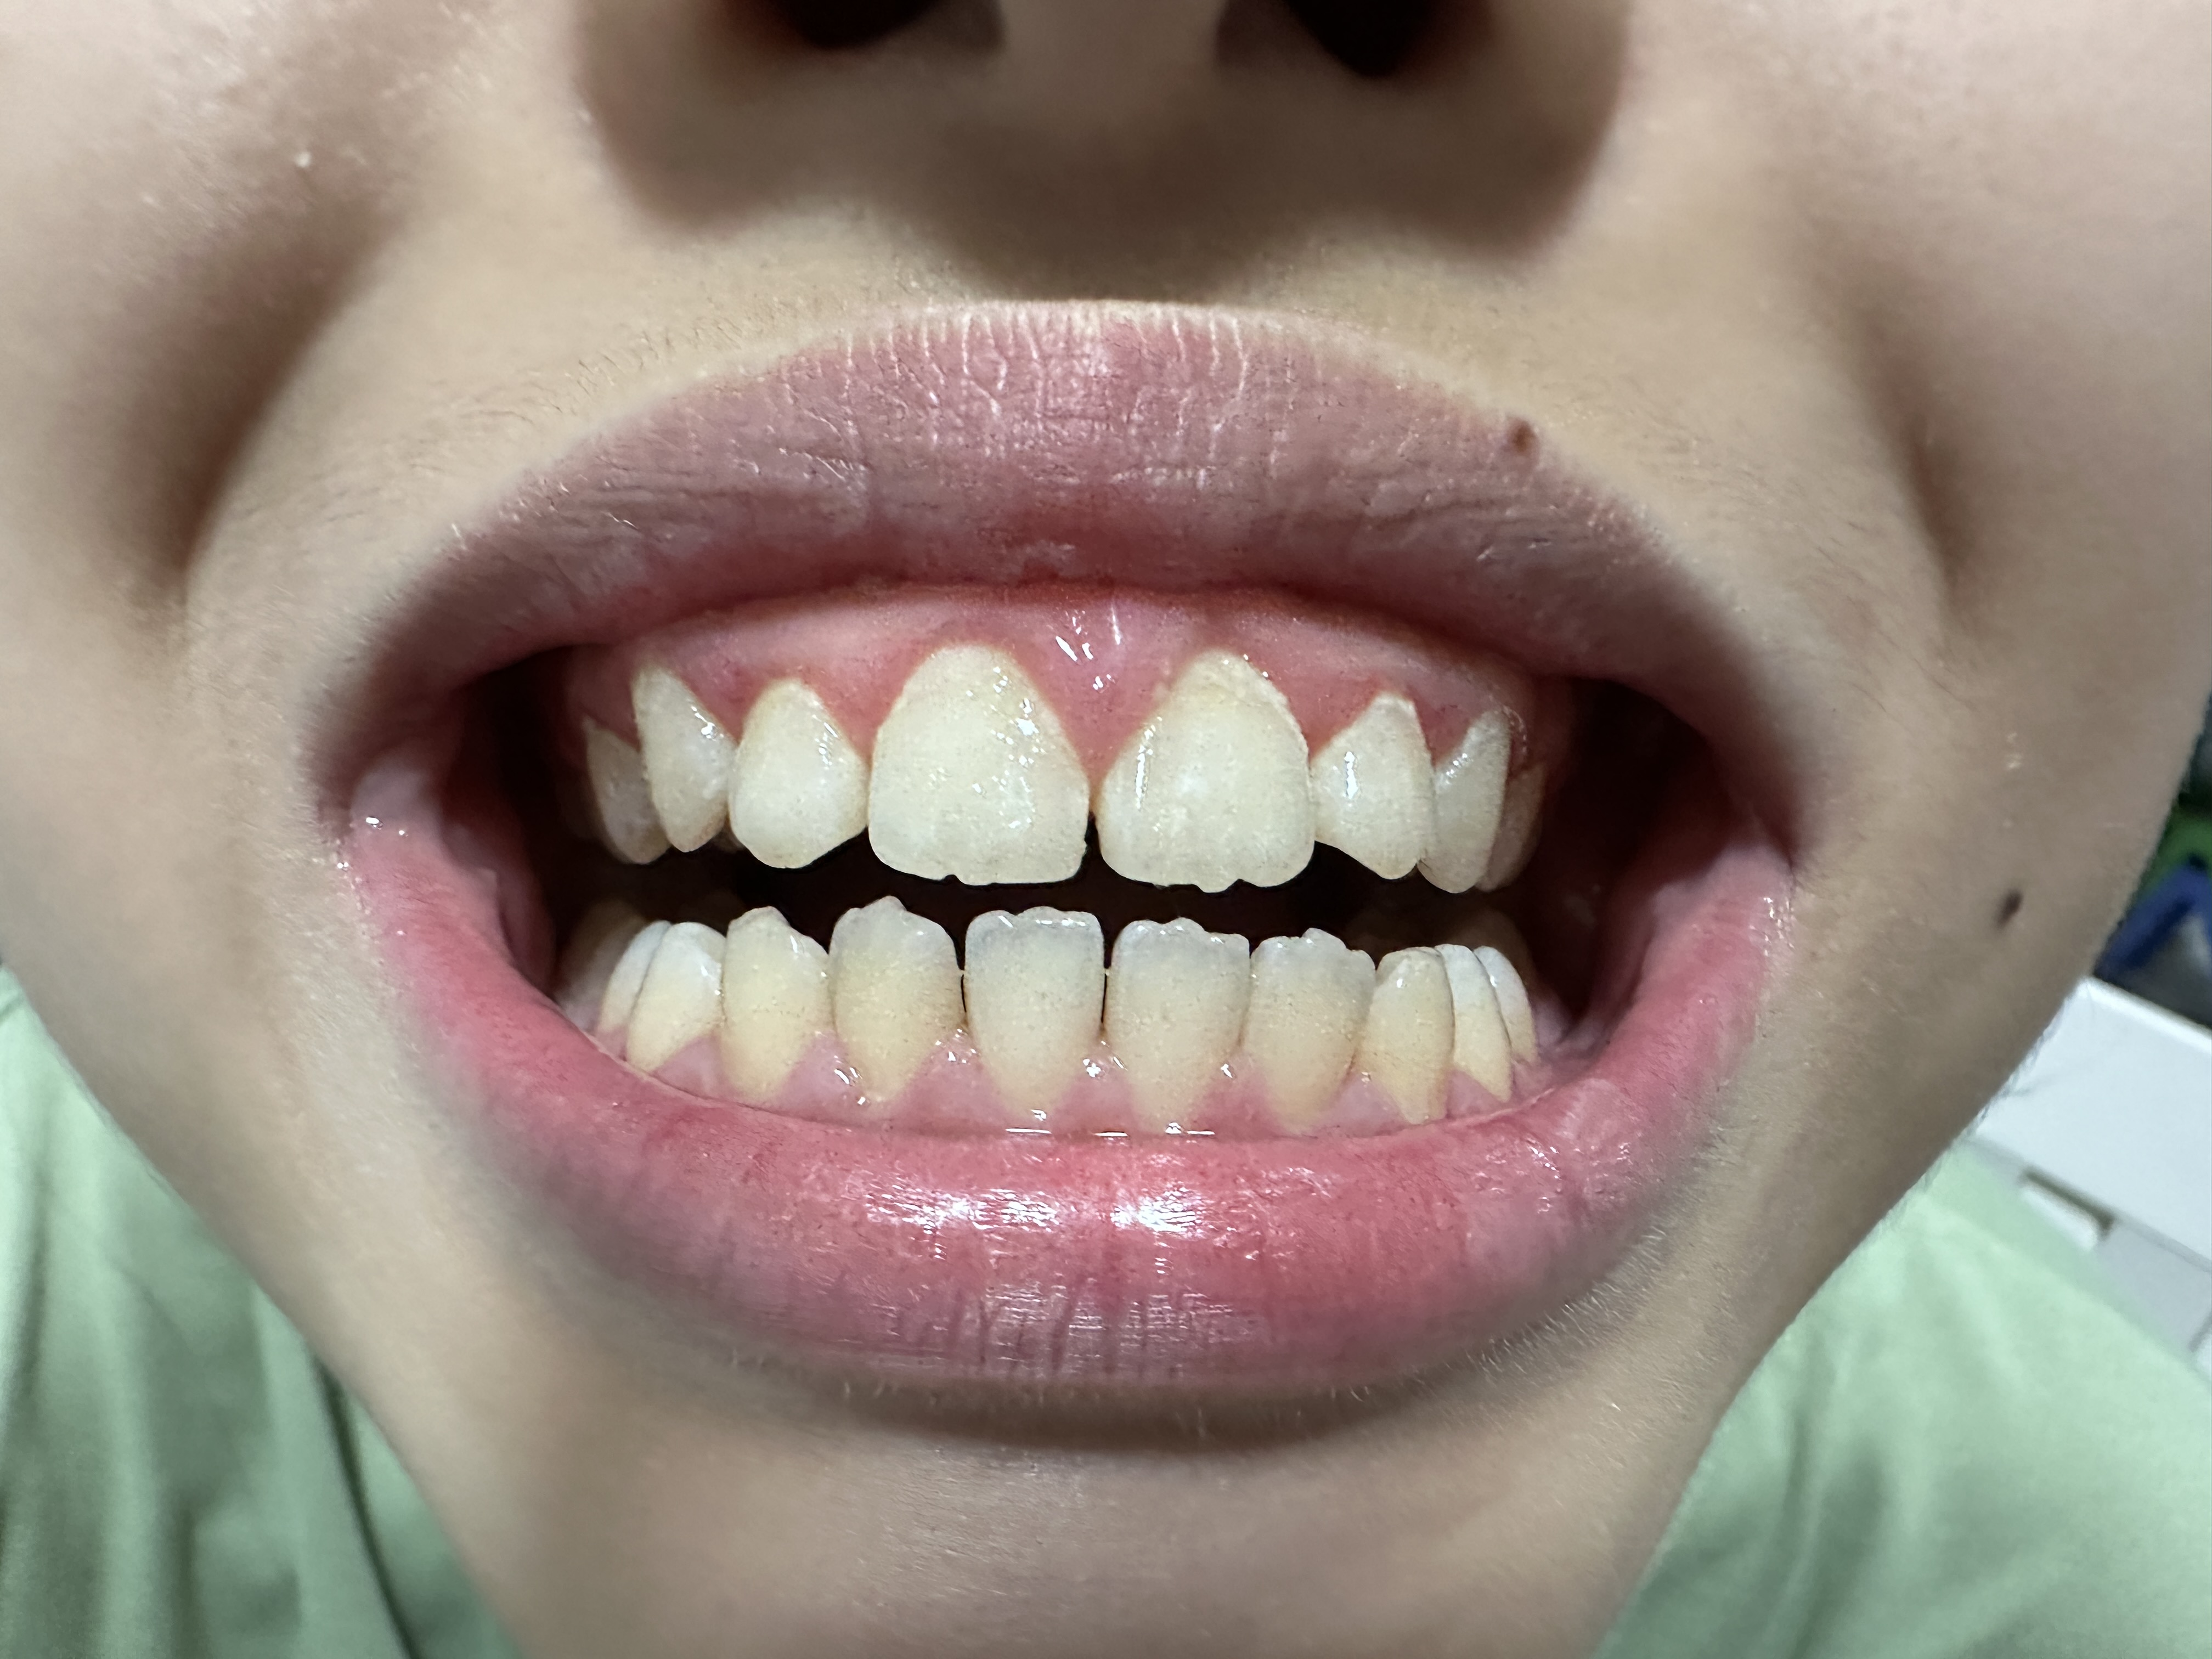teeth: (874, 652, 1078, 877), (1113, 660, 1305, 875), (820, 901, 961, 1091), (970, 915, 1101, 1108), (1249, 929, 1374, 1129), (1115, 931, 1242, 1121), (735, 683, 860, 861), (1318, 699, 1435, 870), (726, 904, 822, 1089), (629, 669, 733, 836), (1364, 946, 1456, 1114), (571, 713, 667, 861), (1435, 714, 1512, 889), (629, 922, 718, 1054), (1453, 948, 1512, 1089)
